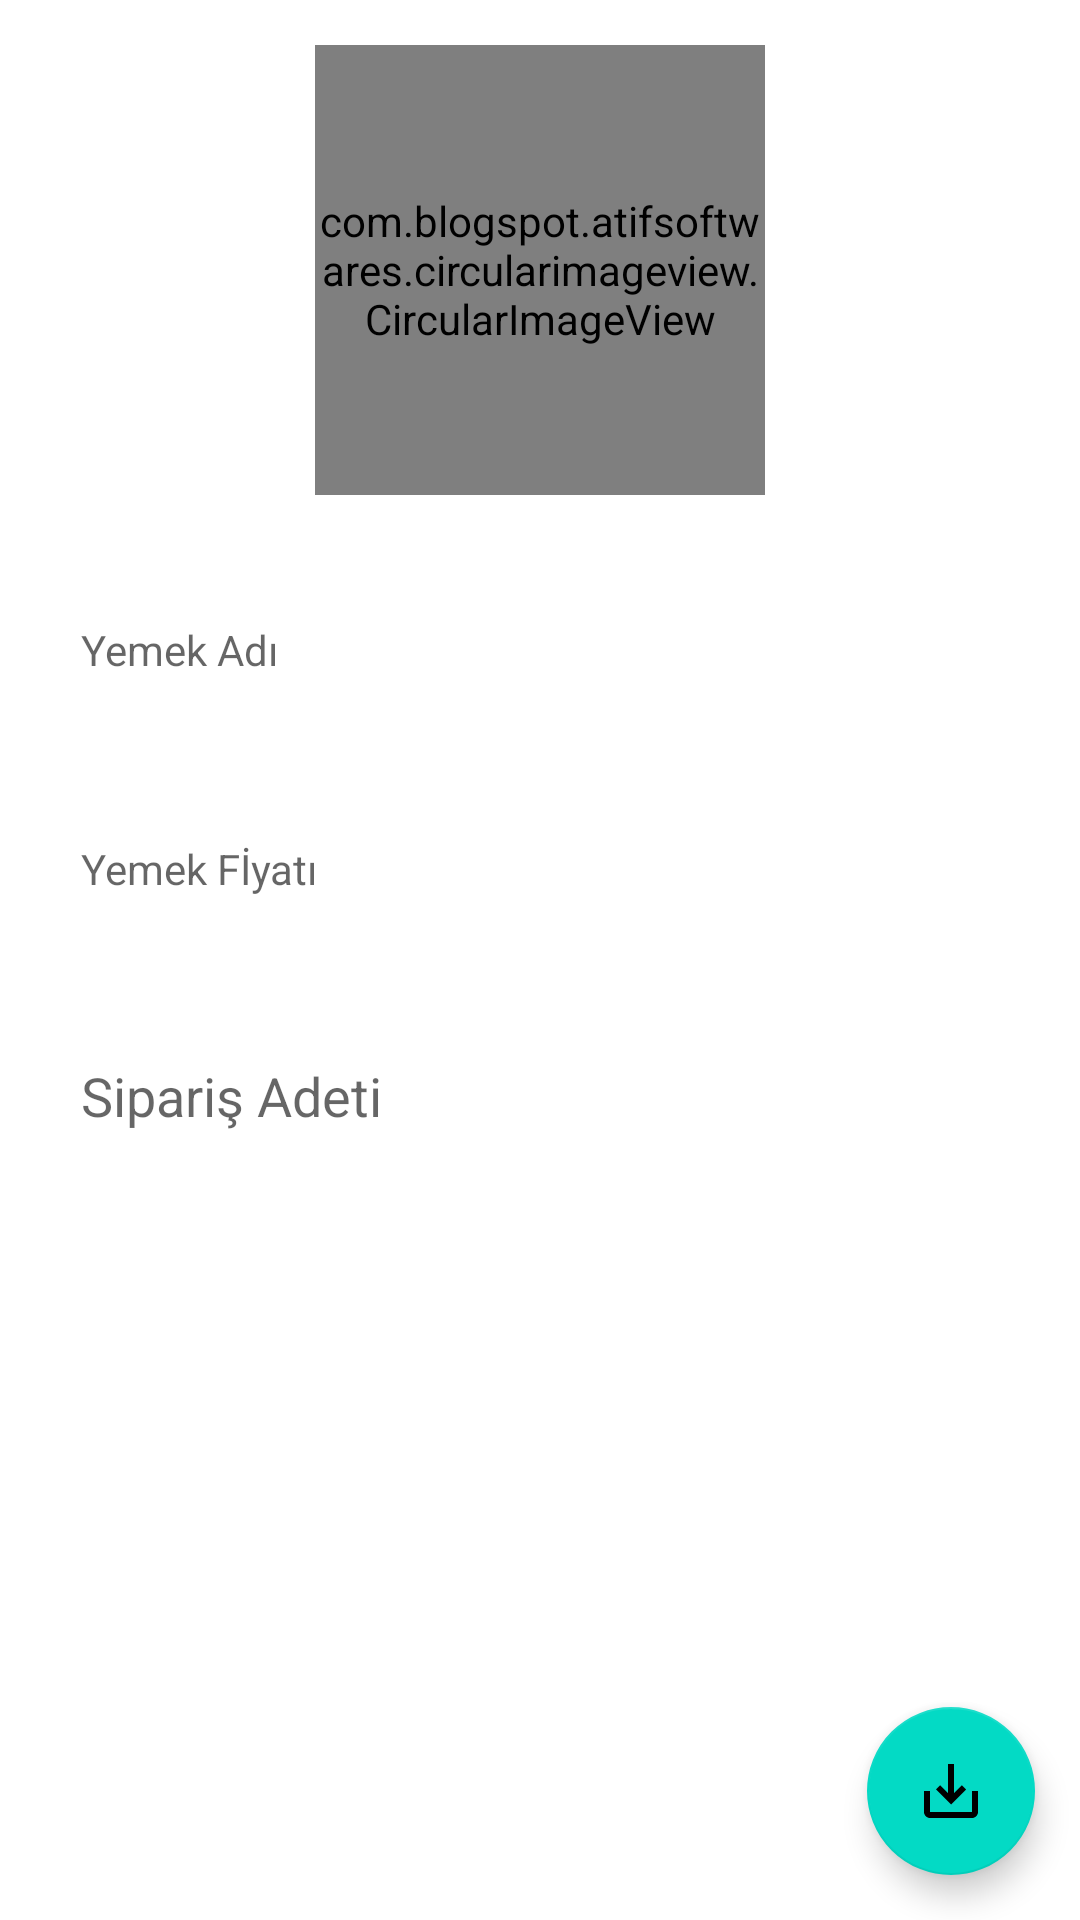

Icon click points for this 1080x1920 phone screenshot, format (x,y):
save: (951,1791)
